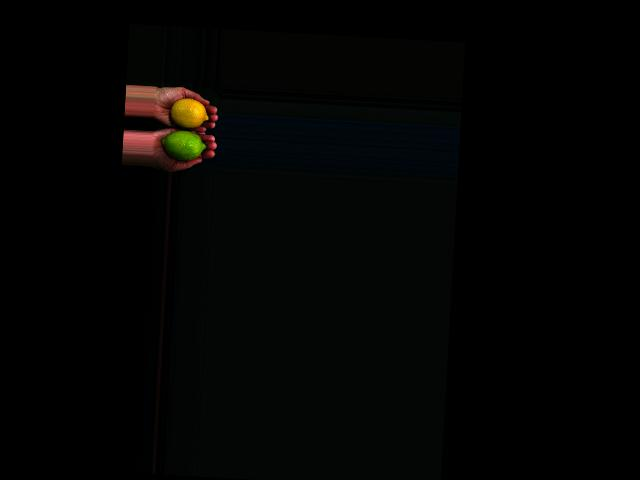lemon: (168, 97, 209, 129)
